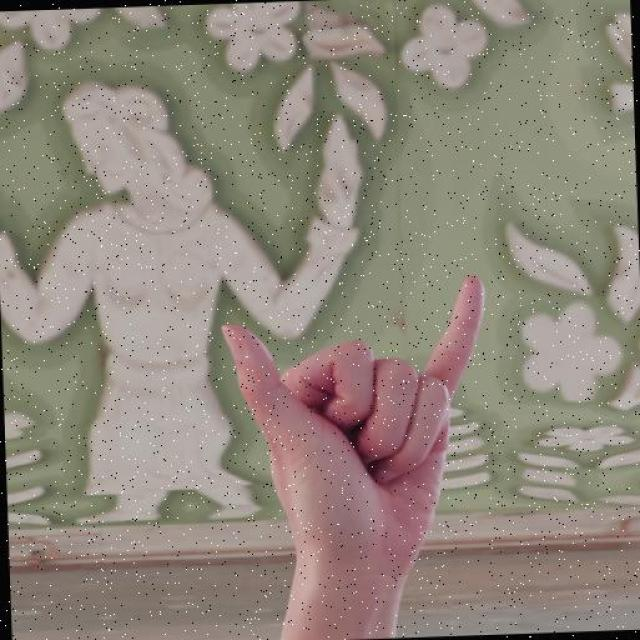Y: (205, 273, 502, 558)
